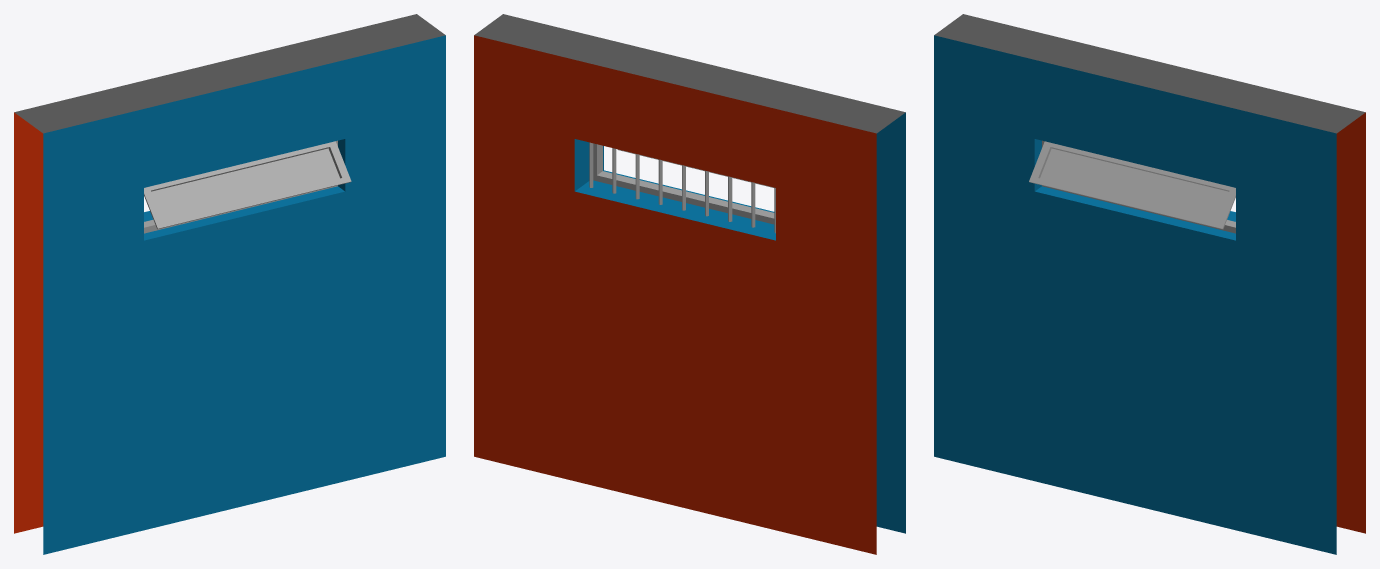
File: Wall_smallWindow 1.fbx
The picture shows the model from 3 angles, left to right: view 1: azimuth 30°, elevation 25°; view 2: azimuth 150°, elevation 25°; view 3: azimuth 330°, elevation 25°; orthographic projection.
Parts seen in each view (by area): view 1: Wall_Long_Window_4x4, Fixtures:Moveable_small; view 2: Wall_Long_Window_4x4, Fixtures:Fix_small, Fixtures:Bars_small; view 3: Wall_Long_Window_4x4, Fixtures:Moveable_small.
Boxes of the visible parts, x1,y1,x2,y2 form: Wall_Long_Window_4x4: (14, 14, 445, 554); Fixtures:Moveable_small: (144, 141, 351, 229); Wall_Long_Window_4x4: (474, 14, 905, 554); Fixtures:Fix_small: (593, 143, 774, 224); Fixtures:Bars_small: (589, 142, 775, 233); Wall_Long_Window_4x4: (934, 14, 1365, 554); Fixtures:Moveable_small: (1029, 141, 1235, 229).
Size of the model in its own units: 4 by 4 by 0.6715.
